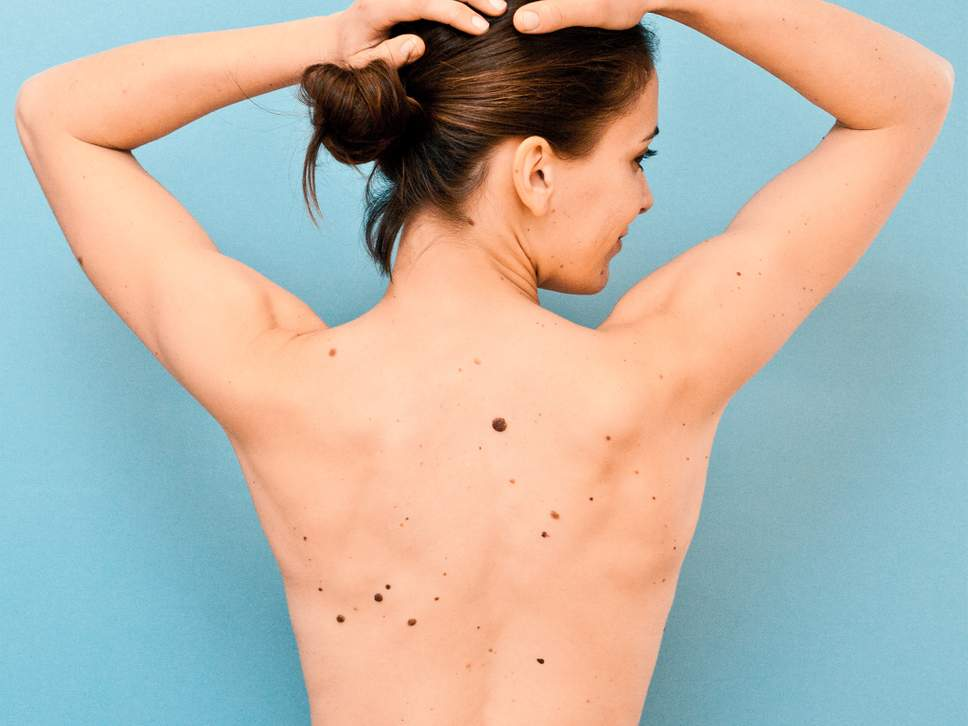mole: (488, 412, 512, 438), (324, 342, 344, 361), (369, 588, 388, 606), (535, 527, 555, 544), (72, 250, 90, 268), (547, 505, 564, 524), (404, 614, 422, 631), (334, 610, 349, 629), (533, 652, 548, 668), (298, 531, 314, 546), (733, 265, 747, 282), (314, 583, 329, 596), (473, 621, 485, 634), (431, 592, 444, 604)
